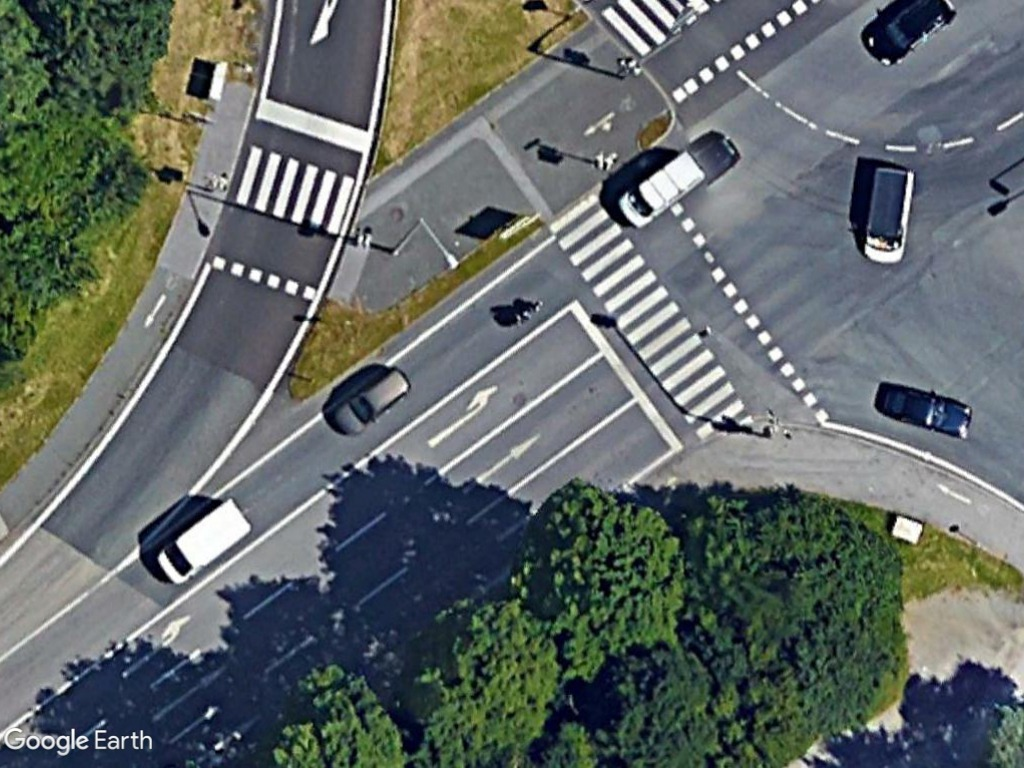car: (327, 357, 416, 440), (873, 378, 978, 442)
van: (150, 490, 254, 592), (612, 143, 708, 232)
